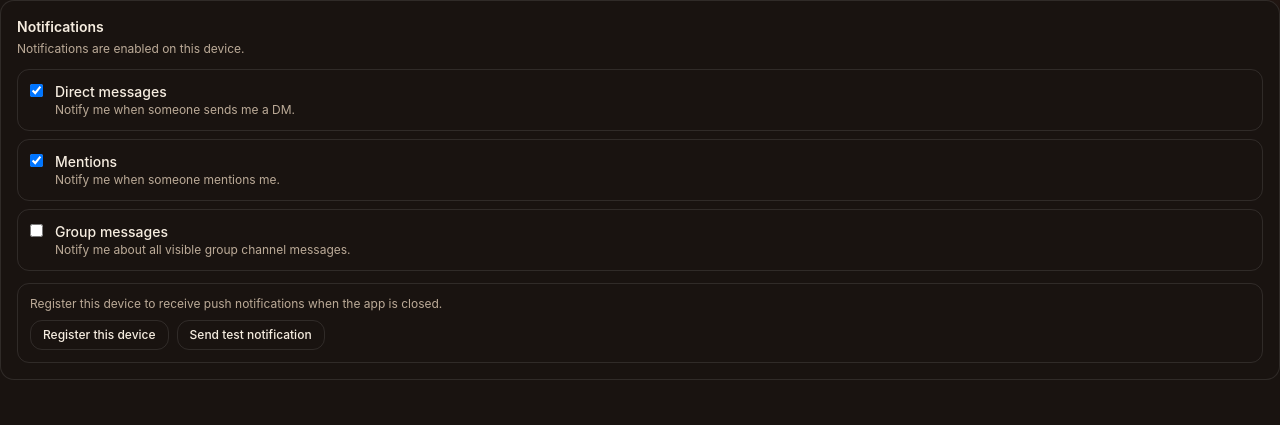
NotificationSettingsPanel › surfaces preference update failures
The width and height of the screenshot is (1280, 425).
Click the checkbox labelled "Mentions Notify me when someone mentions me." at (36, 160), box left=30, top=154, right=43, bottom=167
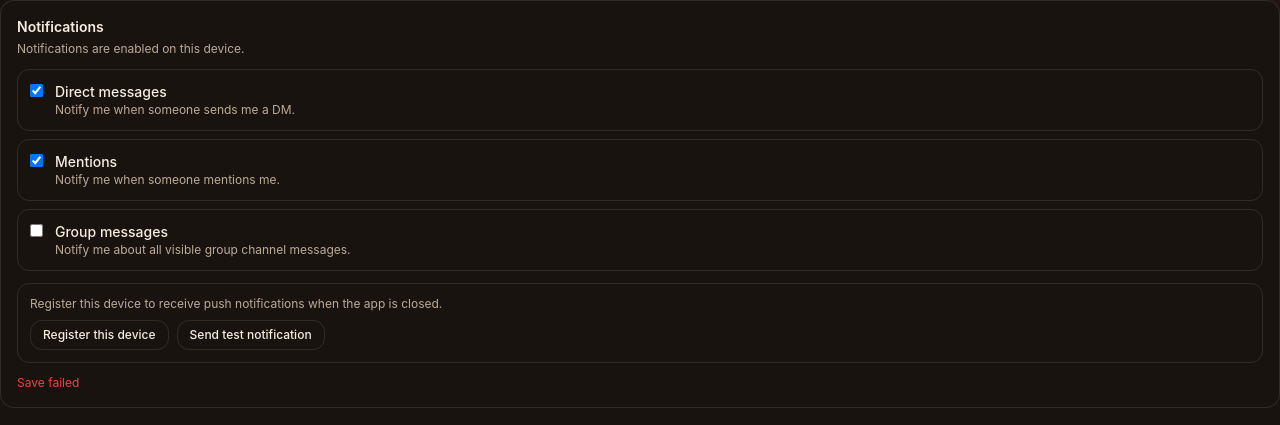
expect the message reads "Save failed": met, box left=17, top=375, right=79, bottom=390
